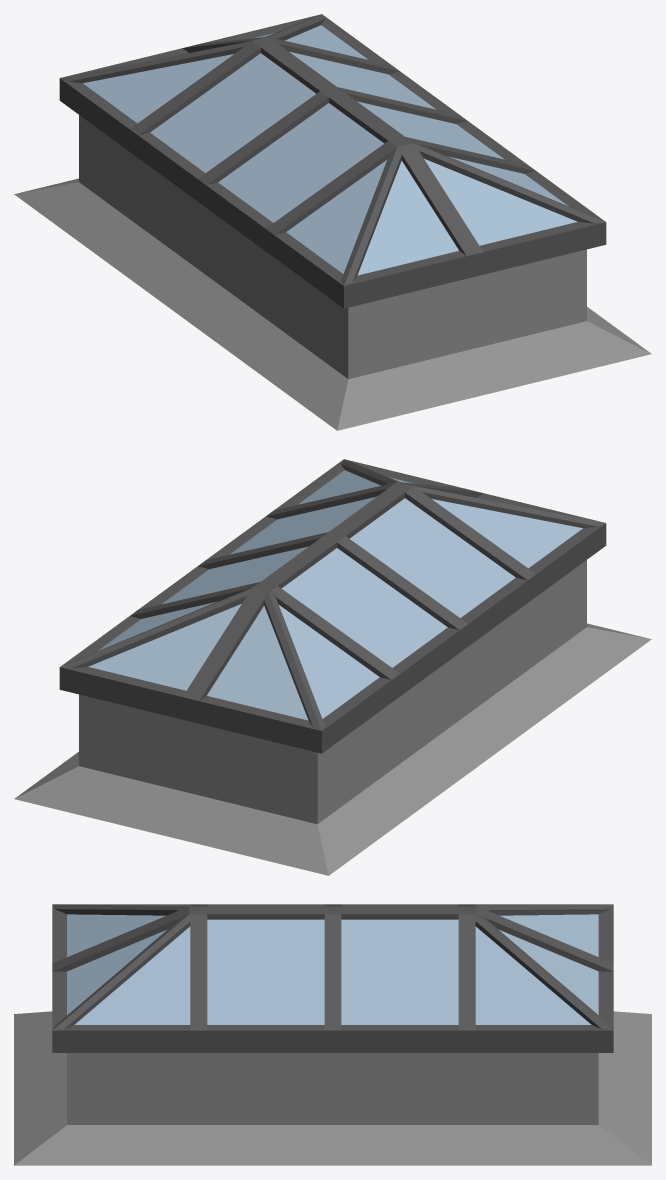
Rendered from rooftop structure5.fbx.
3 renders of one model, top to bottom at view 1: azimuth 30°, elevation 25°; view 2: azimuth 150°, elevation 25°; view 3: azimuth 270°, elevation 25°, orthographic.
Parts seen in each view (by area): view 1: Plane; view 2: Plane; view 3: Plane.
Boxes of the visible parts, x1,y1,x2,y2 form: Plane: (14,14,651,430); Plane: (14,459,651,875); Plane: (14,904,651,1165).
Bounding box in the file's own units: 2.92 × 1.61 × 5.2.
